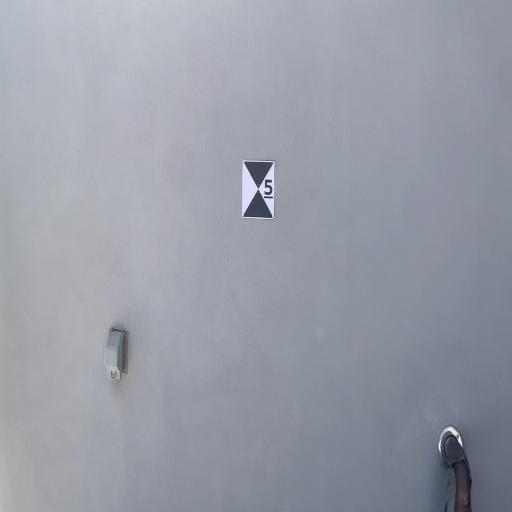target5: (242, 160, 275, 219)
